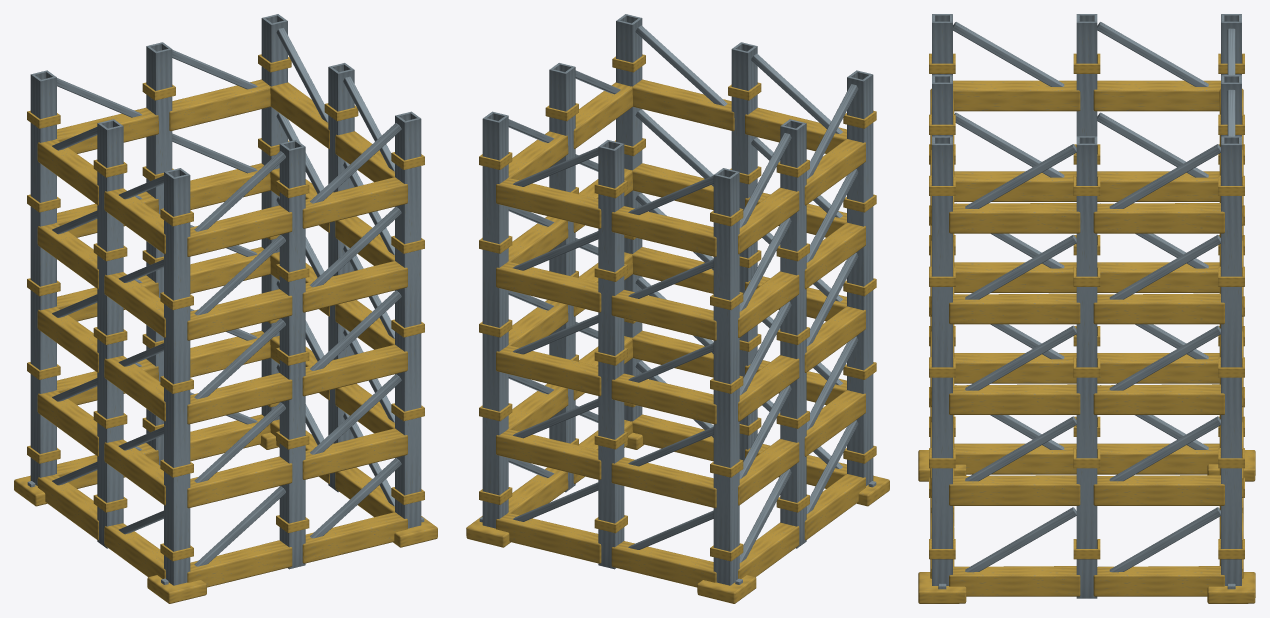
3 renders of one model, left to right at view 1: azimuth 30°, elevation 25°; view 2: azimuth 150°, elevation 25°; view 3: azimuth 270°, elevation 25°, orthographic. The views are drawn at different scales.
Visible parts, largest first — view 1: Tier 0 side 0 post 0, Tier 0 side 1 post 0, Tier 0 side 0 post 1, Tier 0 side 3 post 0, Tier 0 side 3 post 1, Tier 0 side 2 post 1, Tier 0 side 1 post 1, Tier 0 side 2 post 0, Tier 0 bay 0-2-1 service deck, Tier 0 bay 0-1-1 service deck, Tier 0 bay 0-3-0 service deck, Tier 0 bay 0-3-1 service deck (+51 smaller); view 2: Tier 0 side 3 post 0, Tier 0 side 2 post 0, Tier 0 side 2 post 1, Tier 0 side 0 post 0, Tier 0 side 3 post 1, Tier 0 side 1 post 1, Tier 0 side 0 post 1, Tier 0 side 1 post 0, Tier 0 bay 2-2-1 service deck, Tier 0 bay 2-3-0 service deck, Tier 0 bay 2-4-0 service deck, Tier 0 bay 2-2-0 service deck (+58 smaller); view 3: Tier 0 side 1 post 1, Tier 0 side 1 post 0, Tier 0 side 2 post 0, Tier 0 bay 1-3-1 service deck, Tier 0 bay 1-3-0 service deck, Tier 0 bay 1-4-0 service deck, Tier 0 bay 1-4-1 service deck, Tier 0 bay 3-4-0 service deck, Tier 0 bay 3-4-1 service deck, Tier 0 bay 1-1-0 service deck, Tier 0 bay 1-1-1 service deck, Tier 0 bay 1-2-0 service deck (+40 smaller).
Part boxes in pixels (x1,y1,x2,y2): Tier 0 side 0 post 0: (164,168,190,585); Tier 0 side 1 post 0: (395,111,421,528); Tier 0 side 0 post 1: (279,140,305,569); Tier 0 side 3 post 0: (30,70,56,485); Tier 0 side 3 post 1: (97,119,123,548); Tier 0 side 2 post 1: (146,42,172,465); Tier 0 side 1 post 1: (328,63,354,492); Tier 0 side 2 post 0: (261,14,287,420); Tier 0 bay 0-2-1 service deck: (302,344,407,396); Tier 0 bay 0-1-1 service deck: (302,428,407,479); Tier 0 bay 0-3-0 service deck: (187,289,292,340); Tier 0 bay 0-3-1 service deck: (302,261,407,312); Tier 0 side 3 post 0: (713,168,739,585); Tier 0 side 2 post 0: (482,111,508,528); Tier 0 side 2 post 1: (598,140,624,569); Tier 0 side 0 post 0: (847,70,873,485); Tier 0 side 3 post 1: (780,119,806,548); Tier 0 side 1 post 1: (549,63,575,492); Tier 0 side 0 post 1: (731,42,757,461); Tier 0 side 1 post 0: (616,14,642,421); Tier 0 bay 2-2-1 service deck: (611,373,716,424); Tier 0 bay 2-3-0 service deck: (496,262,601,312); Tier 0 bay 2-4-0 service deck: (496,178,601,228); Tier 0 bay 2-2-0 service deck: (496,345,601,396); Tier 0 side 1 post 1: (1076,136,1097,598); Tier 0 side 1 post 0: (932,136,952,585); Tier 0 side 2 post 0: (1221,136,1241,585); Tier 0 bay 1-3-1 service deck: (1093,293,1224,324); Tier 0 bay 1-3-0 service deck: (949,293,1080,324); Tier 0 bay 1-4-0 service deck: (949,203,1080,233); Tier 0 bay 1-4-1 service deck: (1093,203,1224,233); Tier 0 bay 3-4-0 service deck: (1093,80,1220,111); Tier 0 bay 3-4-1 service deck: (953,80,1080,111); Tier 0 bay 1-1-0 service deck: (949,475,1080,505); Tier 0 bay 1-1-1 service deck: (1093,475,1224,505); Tier 0 bay 1-2-0 service deck: (949,384,1080,414).
Bounding box in the file's own units: 1.05 × 1.56 × 1.05.
2 materials, 2 textured.
